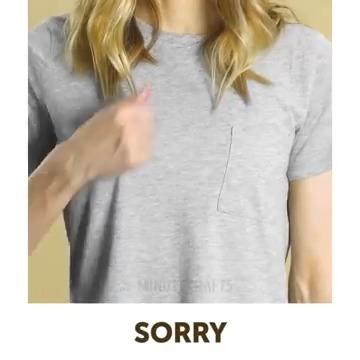sorry: (45, 77, 176, 195)
